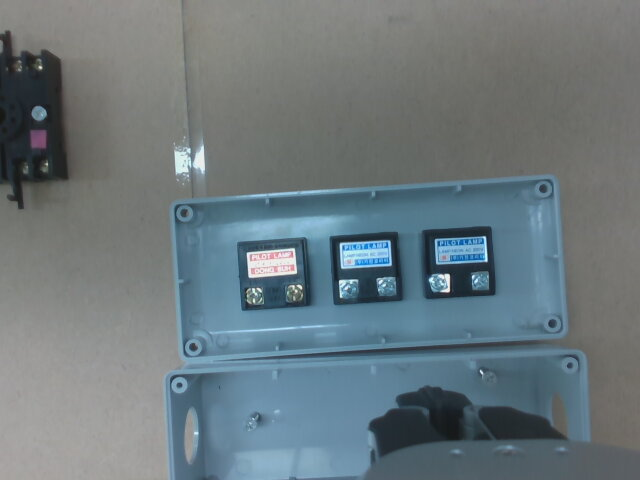L1(1): (244, 287, 265, 305)
L1(2): (285, 286, 303, 301)
L2(1): (337, 279, 360, 299)
L2(2): (375, 278, 397, 296)
L3(1): (429, 273, 451, 294)
L3(2): (470, 272, 491, 291)
